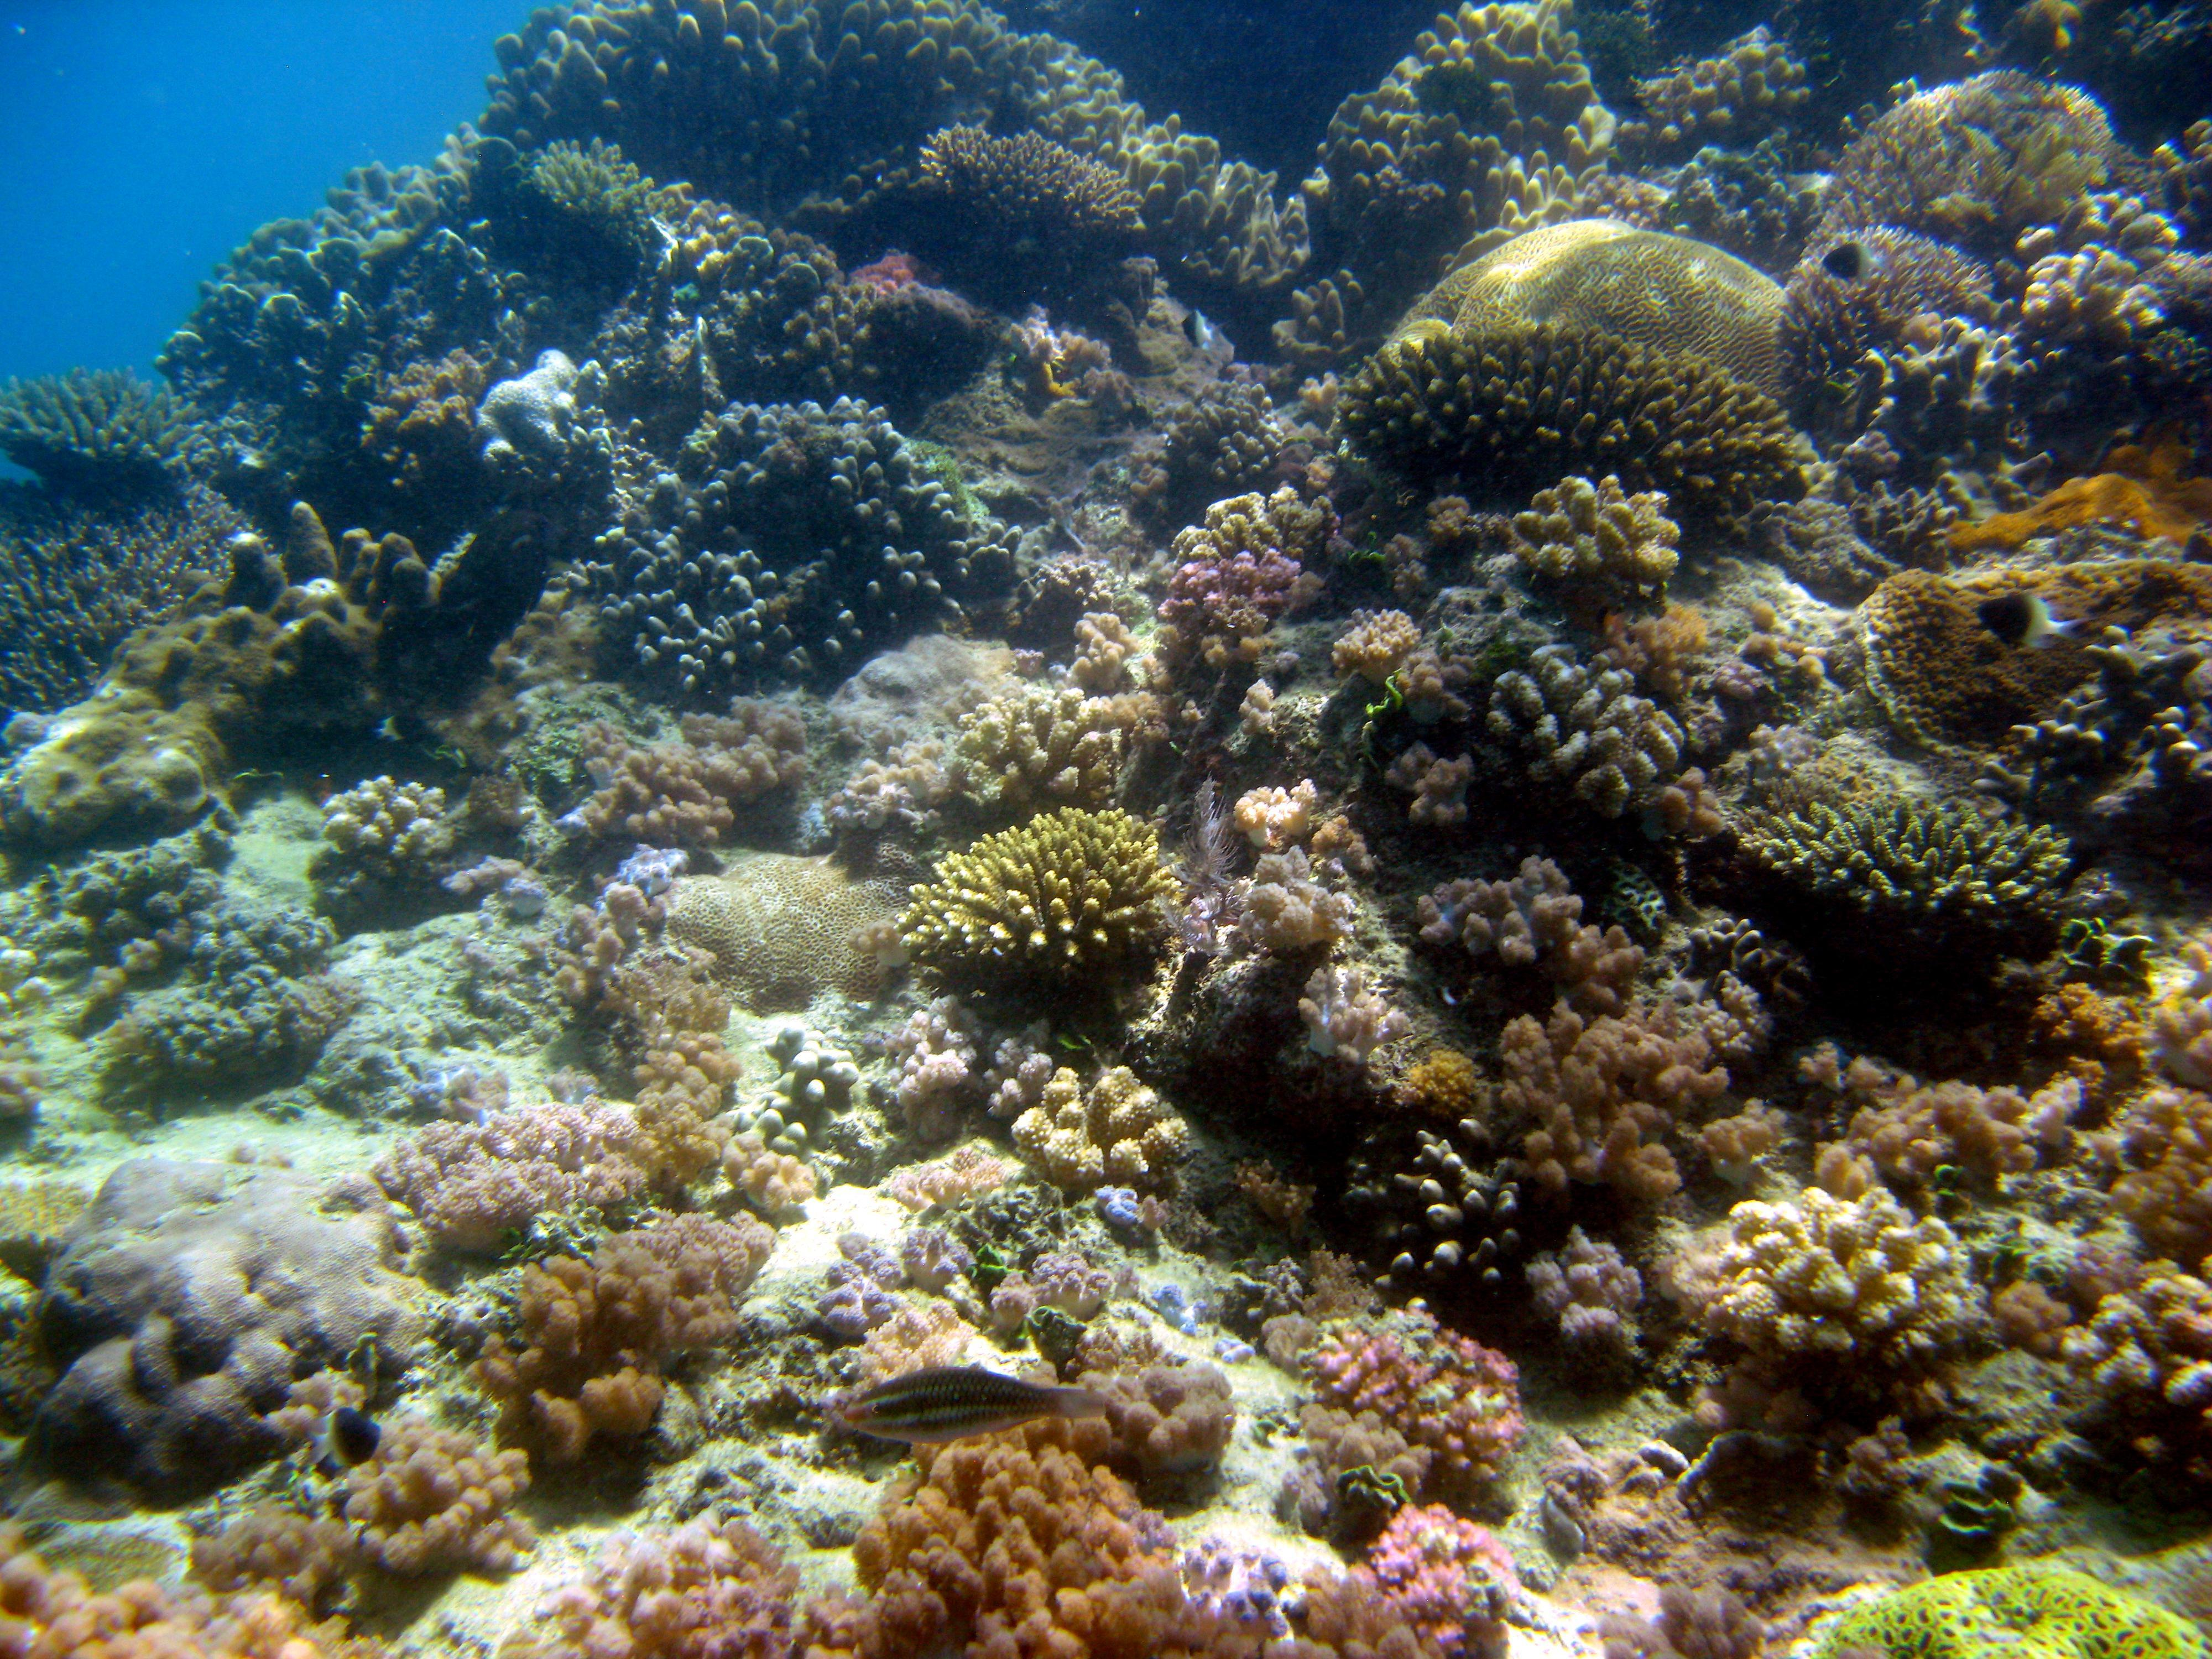Chlorurus sordidus: (1958, 570, 2094, 674), (296, 1401, 406, 1488), (1799, 218, 1902, 305)
